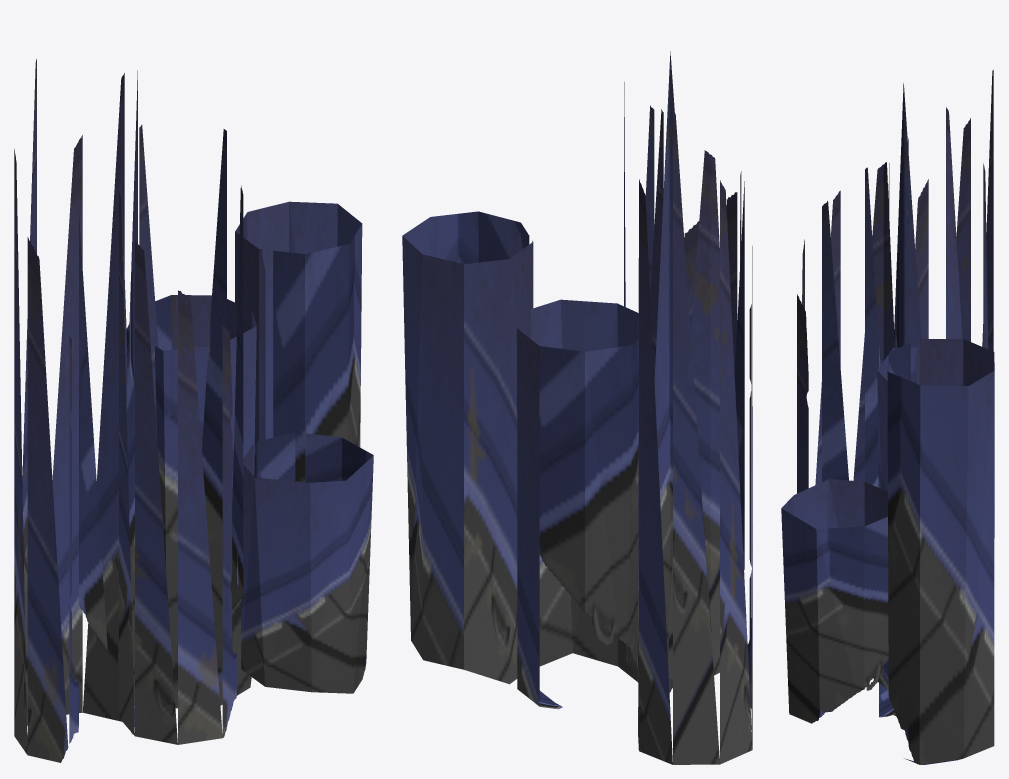
3 views of the same model, side by side, from view 1: azimuth 30°, elevation 25°; view 2: azimuth 150°, elevation 25°; view 3: azimuth 270°, elevation 25° (orthographic). The views are drawn at different scales.
Size of the model in its own units: 0.8048 by 1.66 by 0.4889.
